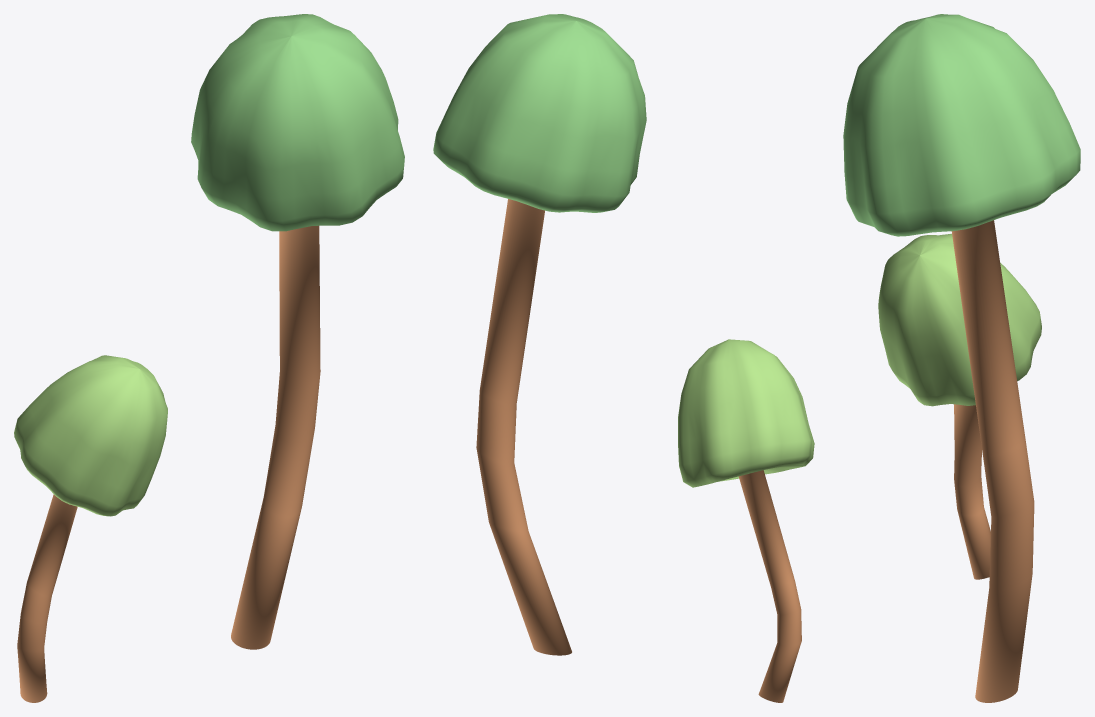
Rendered from MushroomSet5.fbx.
3 renders of one model, left to right at view 1: azimuth 30°, elevation 25°; view 2: azimuth 150°, elevation 25°; view 3: azimuth 270°, elevation 25°, orthographic. The views are drawn at different scales.
Parts seen in each view (by area): view 1: FunkyMushrooms4; view 2: FunkyMushrooms4; view 3: FunkyMushrooms4.
Boxes of the visible parts, left/top/right/bottom form: FunkyMushrooms4: left=14, top=14, right=404, bottom=702; FunkyMushrooms4: left=433, top=14, right=814, bottom=702; FunkyMushrooms4: left=843, top=14, right=1080, bottom=702.
Bounding box in the file's own units: 26.71 × 43.07 × 13.53.
